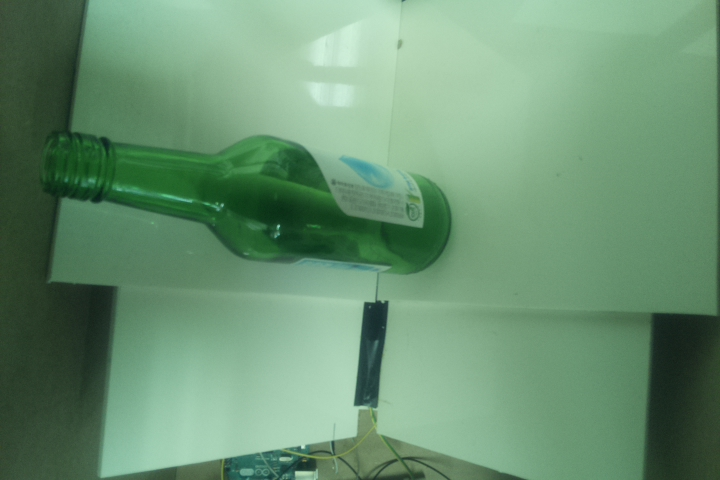soju: (42, 127, 453, 280)
